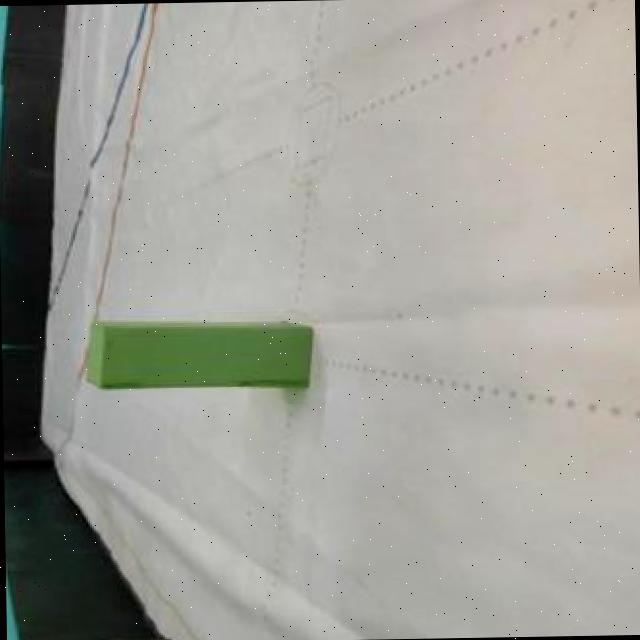greenbox: (77, 310, 313, 395)
